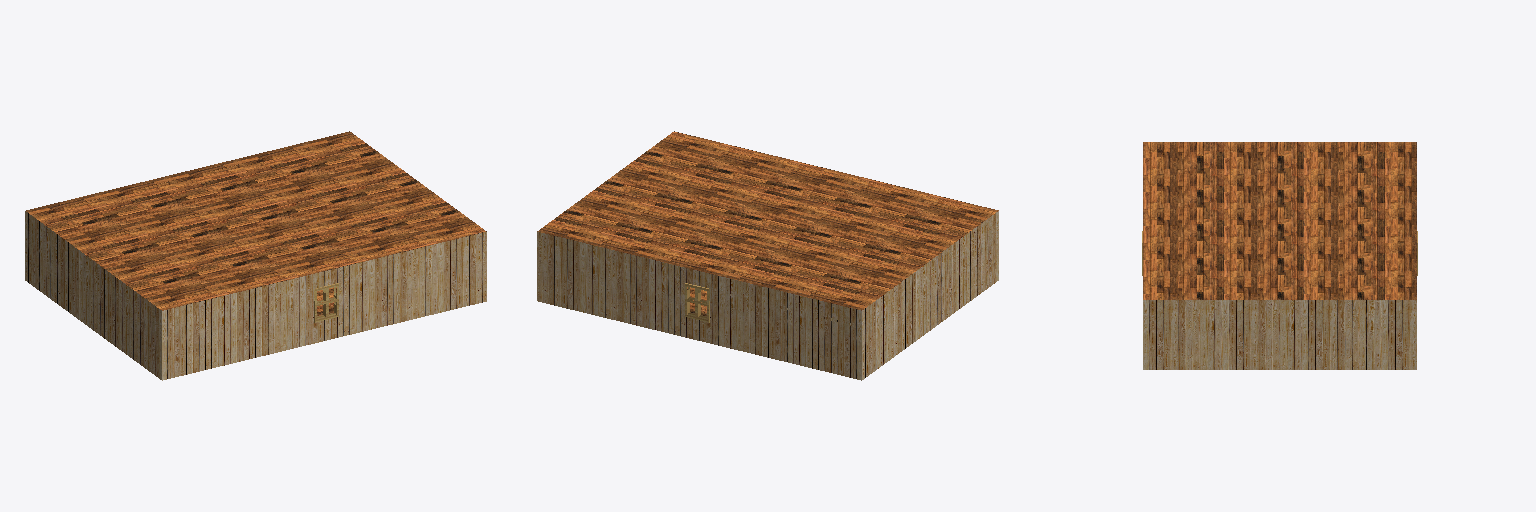
The picture shows the model from 3 angles: view 1: azimuth 30°, elevation 25°; view 2: azimuth 150°, elevation 25°; view 3: azimuth 270°, elevation 25°; orthographic projection.
Bounding box in the file's own units: 68.22 × 14.01 × 50.35.
Materials: 1 (1 with a texture image).